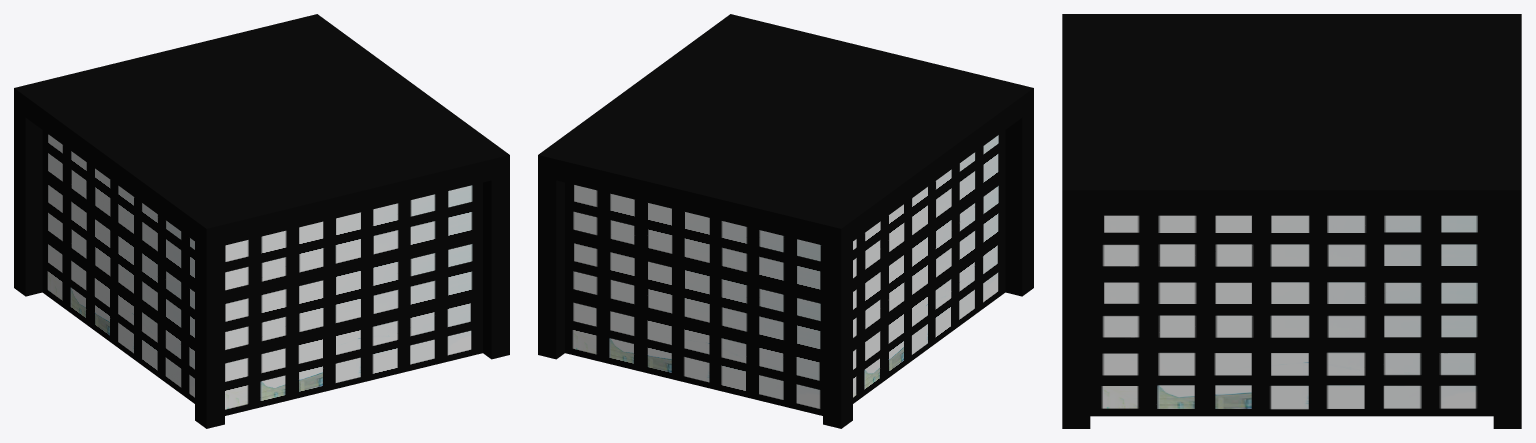
The model's file is building20.FBX.
3 renders of one model, left to right at view 1: azimuth 30°, elevation 25°; view 2: azimuth 150°, elevation 25°; view 3: azimuth 270°, elevation 25°, orthographic. The views are drawn at different scales.
Visible parts, largest first — view 1: Box001; view 2: Box001; view 3: Box001.
Boxes of the visible parts, x1,y1,x2,y2 form: Box001: (14,14,509,428); Box001: (538,14,1033,428); Box001: (1062,14,1521,428).
Bounding box in the file's own units: 118 × 74.66 × 130.
